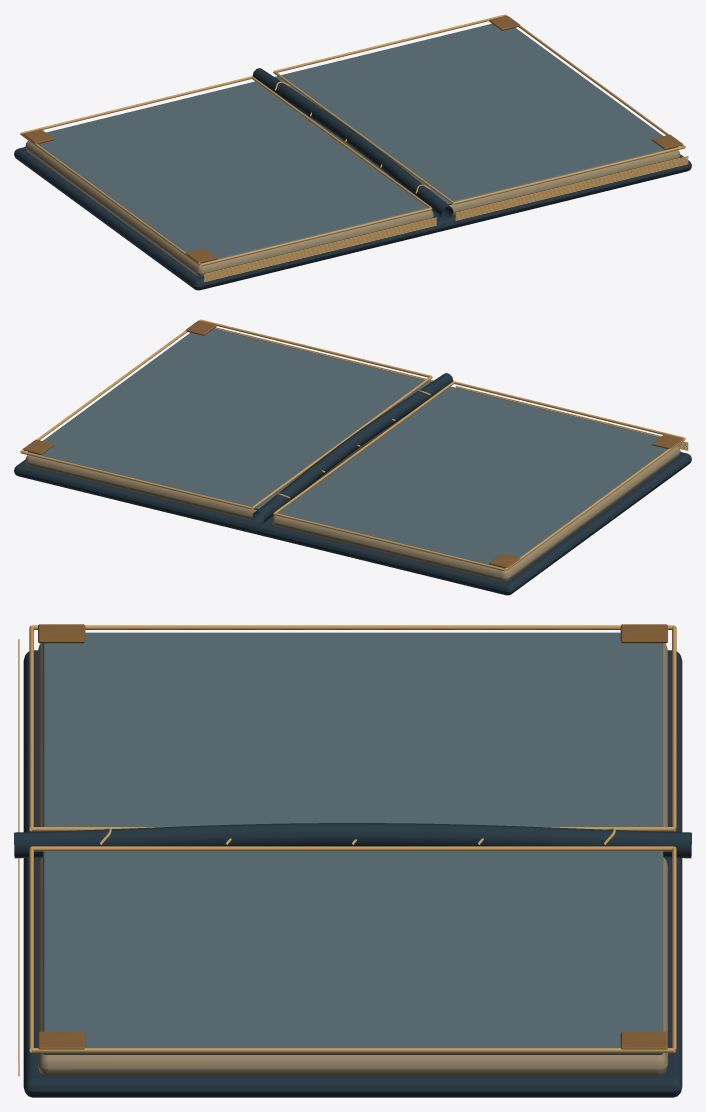
Rendered from collection-folio-v1.glb.
3 views of the same model, one above another, from view 1: azimuth 30°, elevation 25°; view 2: azimuth 150°, elevation 25°; view 3: azimuth 270°, elevation 25° (orthographic). The views are drawn at different scales.
Visible parts, largest first — view 1: LaidPage, LaidPage.001, FolioCover, PageBlock, BindingSpine, PageBlock.001, TooledBinding.002, TooledBinding.006, TooledBinding.007, TooledBinding.003, TooledBinding, TooledBinding.001 (+2 smaller); view 2: LaidPage, LaidPage.001, FolioCover, PageBlock, BindingSpine, PageBlock.001, TooledBinding.003, TooledBinding.007, TooledBinding.006, TooledBinding.002, TooledBinding, TooledBinding.001 (+2 smaller); view 3: LaidPage.001, LaidPage, FolioCover, PageBlock.001, BindingSpine, TooledBinding.004, TooledBinding.005, TooledBinding.001, PageBlock, TooledBinding.006, TooledBinding.007, TooledBinding.002 (+6 smaller).
Part boxes in pixels (bbox=[...]): LaidPage: bbox=[38, 81, 430, 263]; LaidPage.001: bbox=[274, 23, 677, 204]; FolioCover: bbox=[14, 111, 691, 290]; PageBlock: bbox=[25, 141, 433, 276]; BindingSpine: bbox=[252, 68, 453, 219]; PageBlock.001: bbox=[302, 112, 680, 215]; TooledBinding.002: bbox=[200, 207, 432, 266]; TooledBinding.006: bbox=[453, 146, 685, 204]; TooledBinding.007: bbox=[274, 14, 504, 72]; TooledBinding.003: bbox=[21, 76, 251, 133]; TooledBinding: bbox=[251, 76, 432, 208]; TooledBinding.001: bbox=[20, 132, 200, 266]; LaidPage: bbox=[275, 386, 667, 568]; LaidPage.001: bbox=[28, 328, 431, 509]; FolioCover: bbox=[14, 416, 691, 595]; PageBlock: bbox=[272, 446, 680, 581]; BindingSpine: bbox=[252, 373, 453, 524]; PageBlock.001: bbox=[25, 417, 403, 520]; TooledBinding.003: bbox=[273, 512, 505, 571]; TooledBinding.007: bbox=[20, 451, 252, 509]; TooledBinding.006: bbox=[201, 319, 431, 377]; TooledBinding.002: bbox=[454, 381, 684, 438]; TooledBinding: bbox=[273, 381, 454, 513]; TooledBinding.001: bbox=[505, 437, 685, 571]; LaidPage.001: bbox=[42, 851, 663, 1054]; LaidPage: bbox=[42, 632, 663, 826]; FolioCover: bbox=[23, 650, 682, 1097]; PageBlock.001: bbox=[38, 857, 667, 1075]; BindingSpine: bbox=[14, 823, 691, 858]; TooledBinding.004: bbox=[31, 846, 674, 851]; TooledBinding.005: bbox=[31, 1048, 674, 1052]; TooledBinding.001: bbox=[31, 625, 674, 629]; PageBlock: bbox=[38, 643, 667, 826]; TooledBinding.006: bbox=[29, 846, 33, 1052]; TooledBinding.007: bbox=[672, 846, 676, 1052]; TooledBinding.002: bbox=[29, 625, 33, 831].
Size of the model in its own units: 5.88 by 0.3713 by 3.87.
